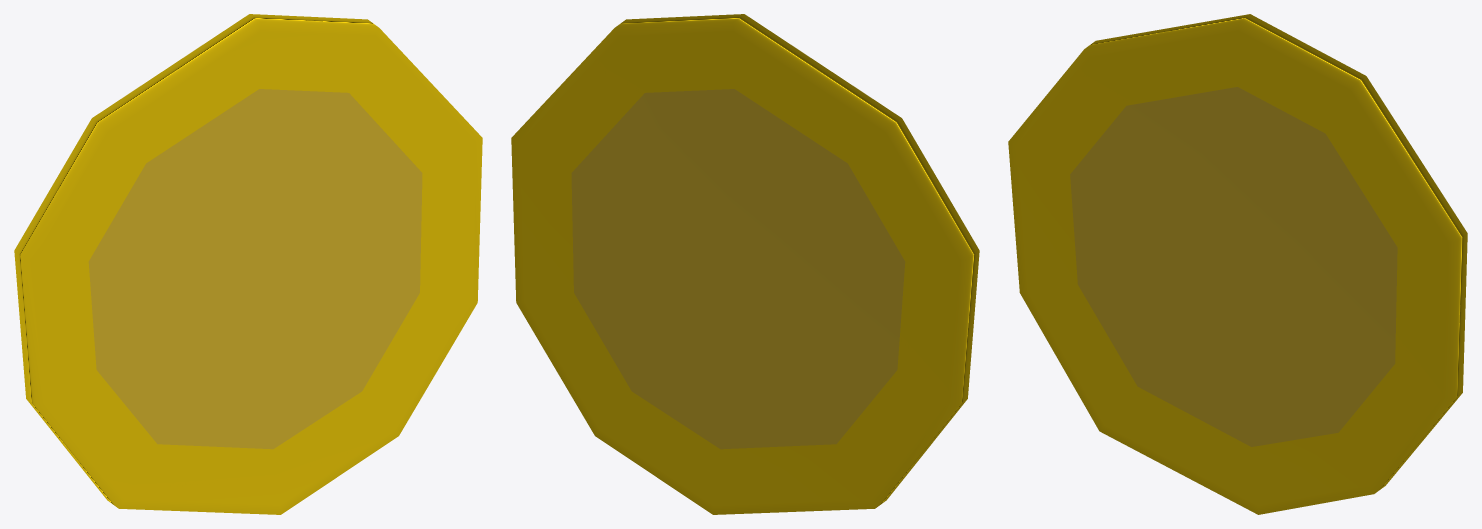
The model's file is Dubloon.fbx.
The picture shows the model from 3 angles, left to right: view 1: azimuth 30°, elevation 25°; view 2: azimuth 150°, elevation 25°; view 3: azimuth 330°, elevation 25°; orthographic projection.
Visible parts, largest first — view 1: Dubloon.003; view 2: Dubloon.003; view 3: Dubloon.003.
Boxes of the visible parts, box(x1,y1,x2,y2) form: Dubloon.003: box(14, 14, 482, 514); Dubloon.003: box(511, 14, 979, 514); Dubloon.003: box(1008, 14, 1467, 514).
Bounding box in the file's own units: 188 × 196 × 8.29.
